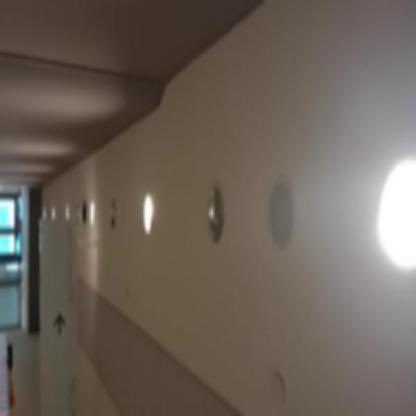light_off: (200, 160, 232, 264), (105, 178, 124, 247), (79, 193, 88, 234)
